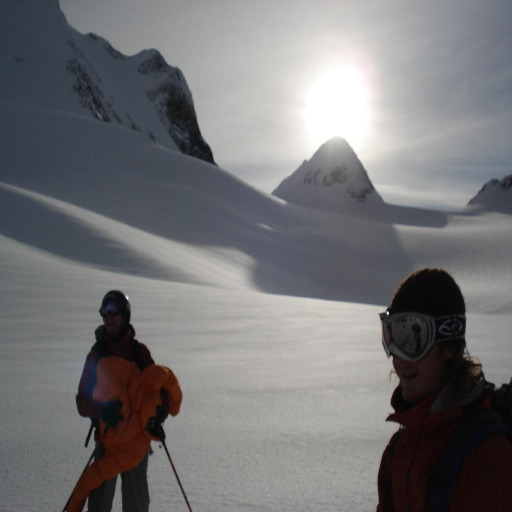hand: (100, 398, 122, 432), (145, 406, 165, 433)
